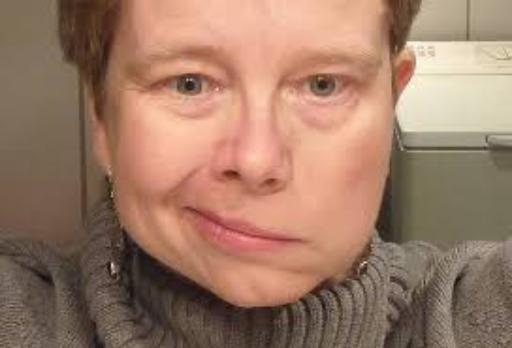left_eye: (294, 76, 359, 100)
left_lip_corner: (285, 234, 315, 249)
right_eye: (159, 73, 226, 99)
right_lip_corner: (171, 202, 201, 220)
